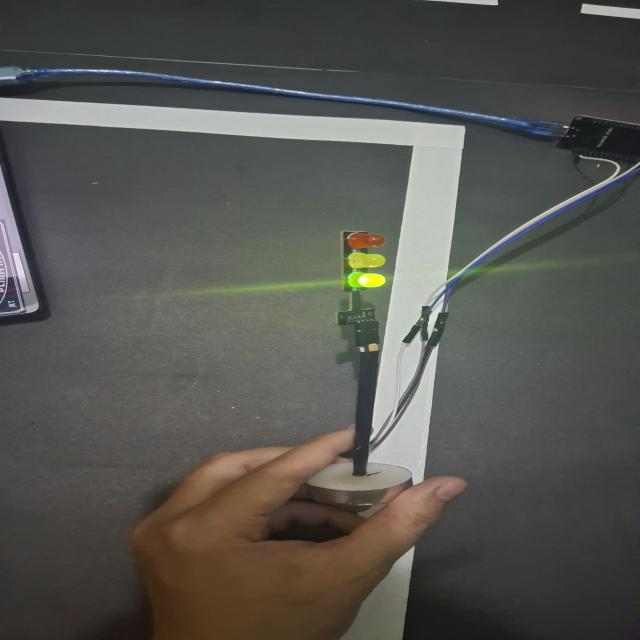Lampu Hijau: (344, 231, 391, 293)
